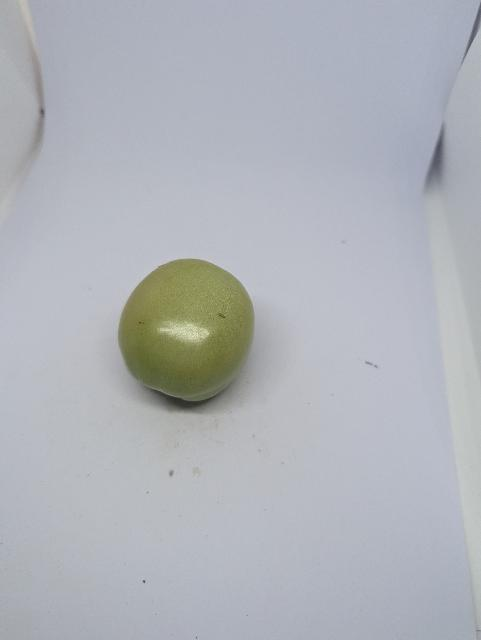green: (117, 256, 256, 405)
